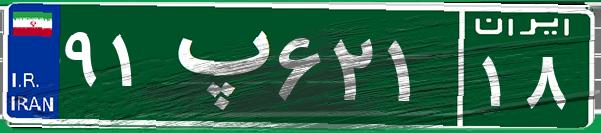1: (385, 28, 445, 110), (475, 38, 525, 113), (110, 28, 158, 105)
2: (330, 28, 385, 110)
6: (273, 28, 330, 110)
8: (525, 38, 570, 115)
9: (57, 26, 110, 107)
پ: (158, 15, 273, 115)
